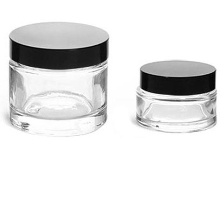bottle: (4, 16, 117, 139), (131, 55, 224, 140)
